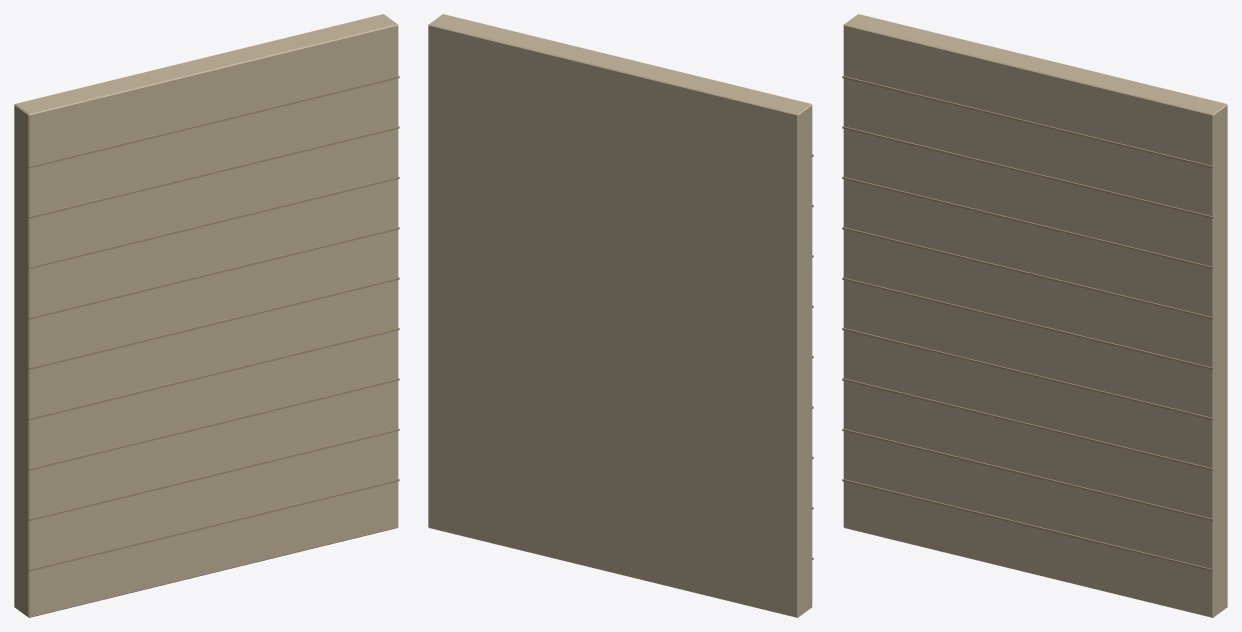
The model's file is hall_wall.glb.
3 views of the same model, side by side, from view 1: azimuth 30°, elevation 25°; view 2: azimuth 150°, elevation 25°; view 3: azimuth 330°, elevation 25° (orthographic).
Parts seen in each view (by area): view 1: wall; view 2: wall; view 3: wall.
Part boxes in pixels (x1,y1,x2,y2): wall: (14,14,399,617); wall: (428,14,813,617); wall: (842,14,1227,617).
Bounding box in the file's own units: 4 × 5.2 × 0.2945.
